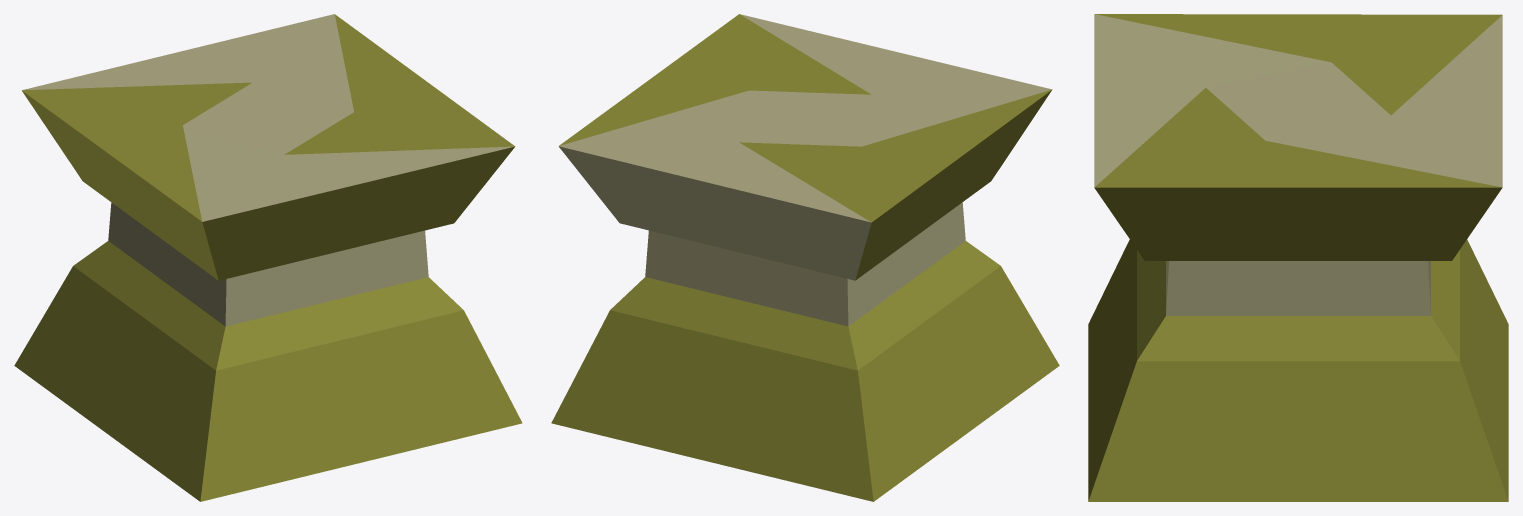
The model's file is Counter.fbx.
The picture shows the model from 3 angles, left to right: view 1: azimuth 30°, elevation 25°; view 2: azimuth 150°, elevation 25°; view 3: azimuth 270°, elevation 25°; orthographic projection. The views are drawn at different scales.
Visible parts, largest first — view 1: Counter; view 2: Counter; view 3: Counter.
Part boxes in pixels (bbox=[...]): Counter: bbox=[14, 14, 522, 501]; Counter: bbox=[551, 14, 1059, 501]; Counter: bbox=[1088, 14, 1508, 501].
Bounding box in the file's own units: 204 × 168 × 204.
